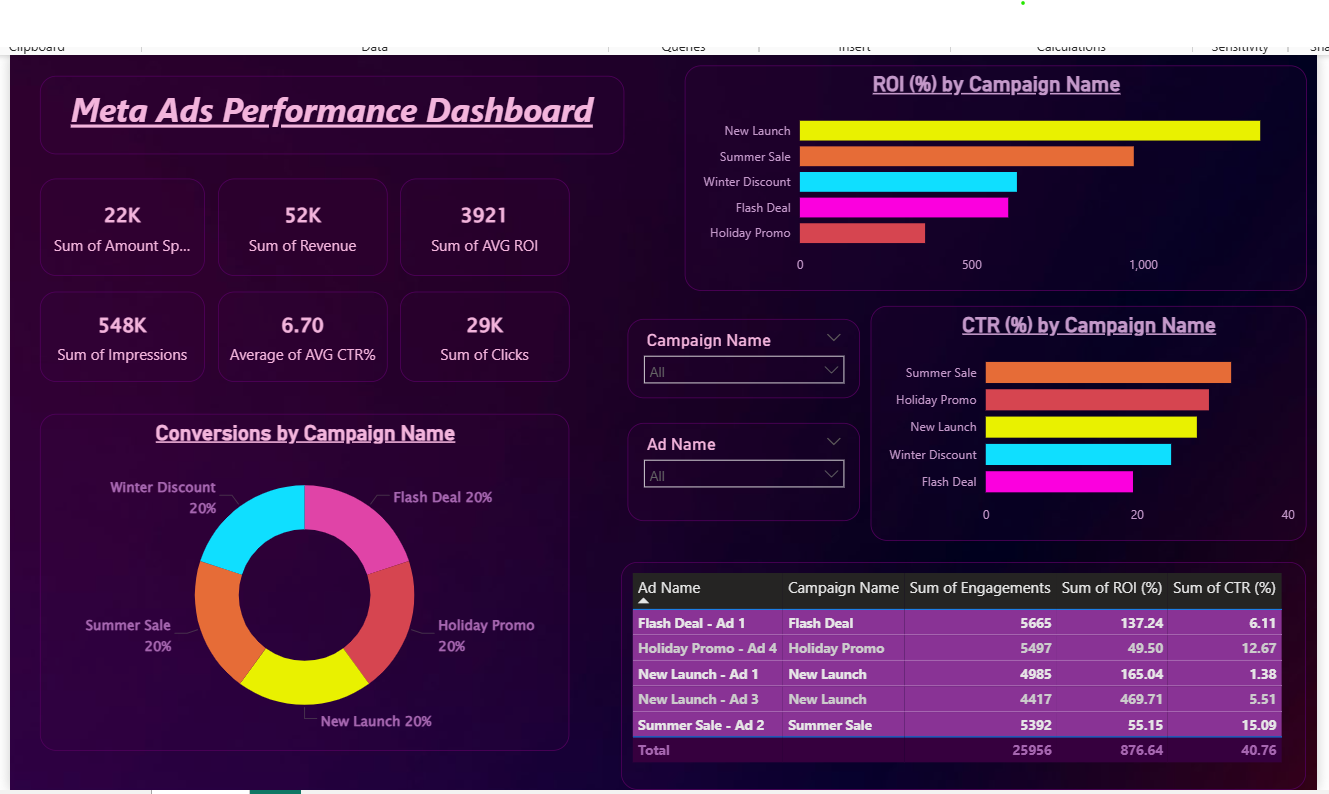

Layout of this report page (visuals, bound fields, positions):
{"tool":"powerbi","page":{"name":"Page 1","canvas":[1280,720],"ordinal":0},"visuals":[{"type":"textbox","box":[29.1,19.8,572.1,76.7],"z":0},{"type":"card","fields":{"Values":["Sum(social_media_campaign_data.Impressions)"]},"box":[29.1,231.4,161.6,88.4],"z":1000},{"type":"card","fields":{"Values":["Sum(social_media_campaign_data.Clicks)"]},"box":[381.4,231.4,166.3,88.4],"z":2000},{"type":"card","fields":{"Values":["Sum(social_media_campaign_data.Amount Spent)"]},"box":[29.1,120.9,161.6,95.3],"z":3000},{"type":"card","fields":{"Values":["Sum(social_media_campaign_data.Revenue)"]},"box":[203.5,120.9,166.3,95.3],"z":4000},{"type":"card","fields":{"Values":["Avg(social_media_campaign_data.AVG CTR%)"]},"box":[203.5,231.4,166.3,88.4],"z":5000},{"type":"card","fields":{"Values":["Sum(social_media_campaign_data.AVG ROI)"]},"box":[381.4,120.9,166.3,95.3],"z":6000},{"type":"clusteredBarChart","title":"ROI (%) by Campaign Name","fields":{"Category":["social_media_campaign_data.Campaign Name"],"Y":["Sum(social_media_campaign_data.ROI (%))"]},"box":[660.5,10.5,609.3,220.9],"z":7000},{"type":"barChart","title":"CTR (%) by Campaign Name","fields":{"Category":["social_media_campaign_data.Campaign Name"],"Y":["Sum(social_media_campaign_data.CTR (%))"]},"box":[843,245.3,426.7,230.2],"z":8000},{"type":"tableEx","fields":{"Values":["top_engagement_ads.Ad Name","top_engagement_ads.Campaign Name","Sum(top_engagement_ads.Engagements)","Sum(top_engagement_ads.ROI (%))","Sum(top_engagement_ads.CTR (%))"]},"box":[598.8,496.5,670.9,223.3],"z":9000},{"type":"donutChart","title":"Conversions by Campaign Name","fields":{"Category":["campaign_summary.Campaign Name"],"Y":["CountNonNull(campaign_summary.Conversions)"]},"box":[28.8,351.2,518.8,330],"z":10000},{"type":"slicer","fields":{"Values":["social_media_campaign_data.Campaign Name"]},"box":[604.7,258.1,227.9,77.9],"z":11000},{"type":"slicer","fields":{"Values":["social_media_campaign_data.Ad Name"]},"box":[604.7,360.5,227.9,96.5],"z":12000}]}

Visuals, with their boxes on the page's 1280x720 design canvas (x1, y1, x2, y2). These are canvas units, not pixel positions in the 1329x794 screenshot, which may show the page scaled, cropped or inside an application window:
textbox: (29, 20, 601, 96)
card - Sum(social_media_campaign_data.Impressions): (29, 231, 191, 320)
card - Sum(social_media_campaign_data.Clicks): (381, 231, 548, 320)
card - Sum(social_media_campaign_data.Amount Spent): (29, 121, 191, 216)
card - Sum(social_media_campaign_data.Revenue): (204, 121, 370, 216)
card - Avg(social_media_campaign_data.AVG CTR%): (204, 231, 370, 320)
card - Sum(social_media_campaign_data.AVG ROI): (381, 121, 548, 216)
"ROI (%) by Campaign Name" clusteredBarChart: (660, 10, 1270, 231)
"CTR (%) by Campaign Name" barChart: (843, 245, 1270, 476)
tableEx - top_engagement_ads.Ad Name x top_engagement_ads.Campaign Name: (599, 496, 1270, 720)
"Conversions by Campaign Name" donutChart: (29, 351, 548, 681)
slicer - social_media_campaign_data.Campaign Name: (605, 258, 833, 336)
slicer - social_media_campaign_data.Ad Name: (605, 360, 833, 457)
